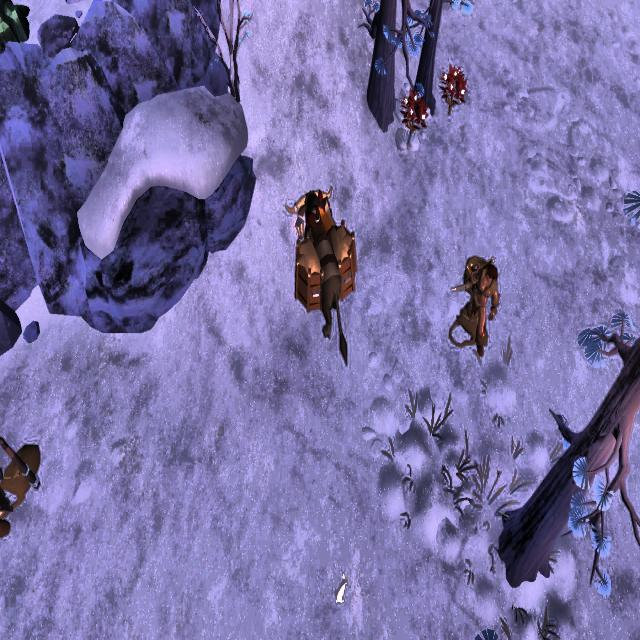enemy_factionKeeper: (453, 248, 502, 345)
fiber_t5: (438, 58, 470, 113), (400, 88, 429, 134)
rock_t3: (0, 0, 39, 59)
